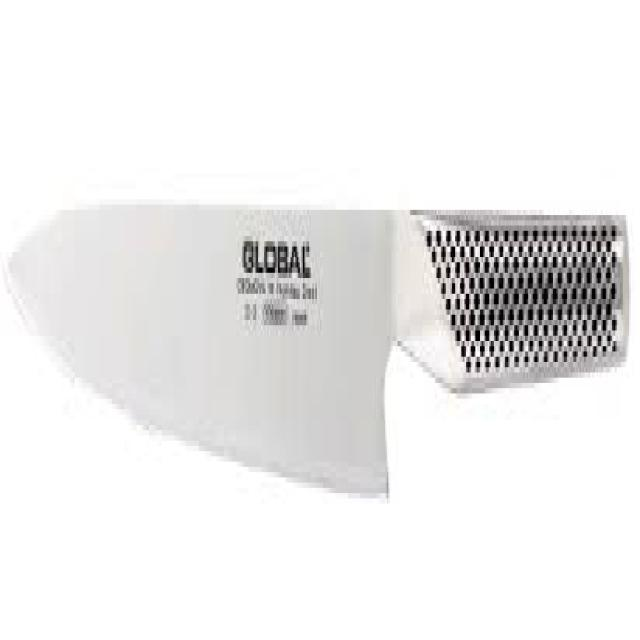Knife: (3, 199, 629, 493)
